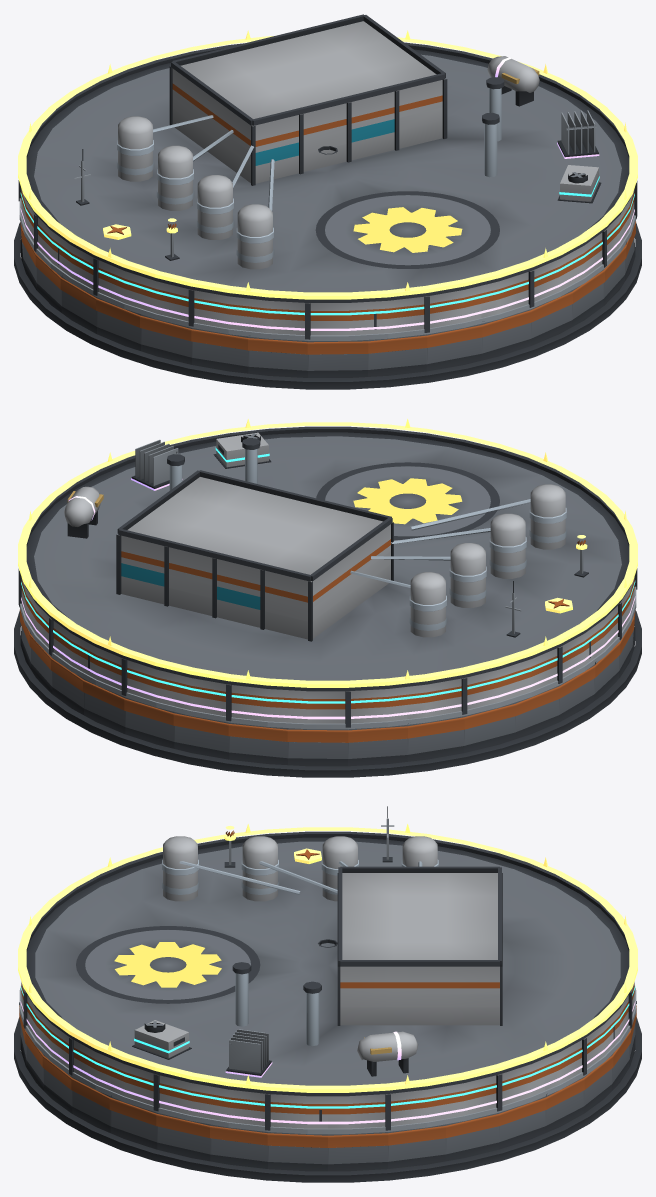
File: superconductor_lab_l_far.glb
3 renders of one model, top to bottom at view 1: azimuth 30°, elevation 25°; view 2: azimuth 150°, elevation 25°; view 3: azimuth 270°, elevation 25°, orthographic.
Visible parts, largest first — view 1: Roof, Base, L5, L4, L2, L3; view 2: Roof, Base, L5, L4, L2, L3; view 3: Roof, Base, L5, L4, L2, L3.
Boxes of the visible parts, <box> form: Roof: <box>18,14,637,339</box>; Base: <box>14,221,641,389</box>; L5: <box>18,30,637,299</box>; L4: <box>20,56,634,330</box>; L2: <box>19,149,636,340</box>; L3: <box>20,146,634,315</box>; Roof: <box>18,426,637,727</box>; Base: <box>14,609,641,777</box>; L5: <box>18,419,637,687</box>; L4: <box>21,439,635,719</box>; L2: <box>19,581,636,729</box>; L3: <box>21,432,635,703</box>; Roof: <box>21,831,634,1130</box>; Base: <box>14,1001,641,1182</box>; L5: <box>18,824,637,1092</box>; L4: <box>20,1001,635,1124</box>; L2: <box>19,806,636,1134</box>; L3: <box>20,939,635,1108</box>.
Size of the model in its own units: 18.96 by 4.96 by 18.96.
